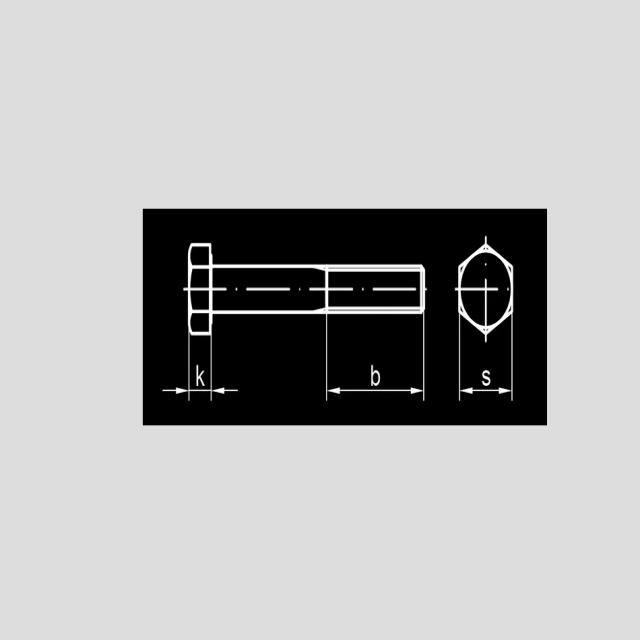marking_line: (324, 386, 429, 402), (161, 383, 241, 400), (456, 387, 516, 401)
